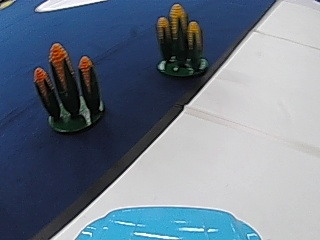corn: (33, 41, 108, 132), (153, 5, 207, 79)
